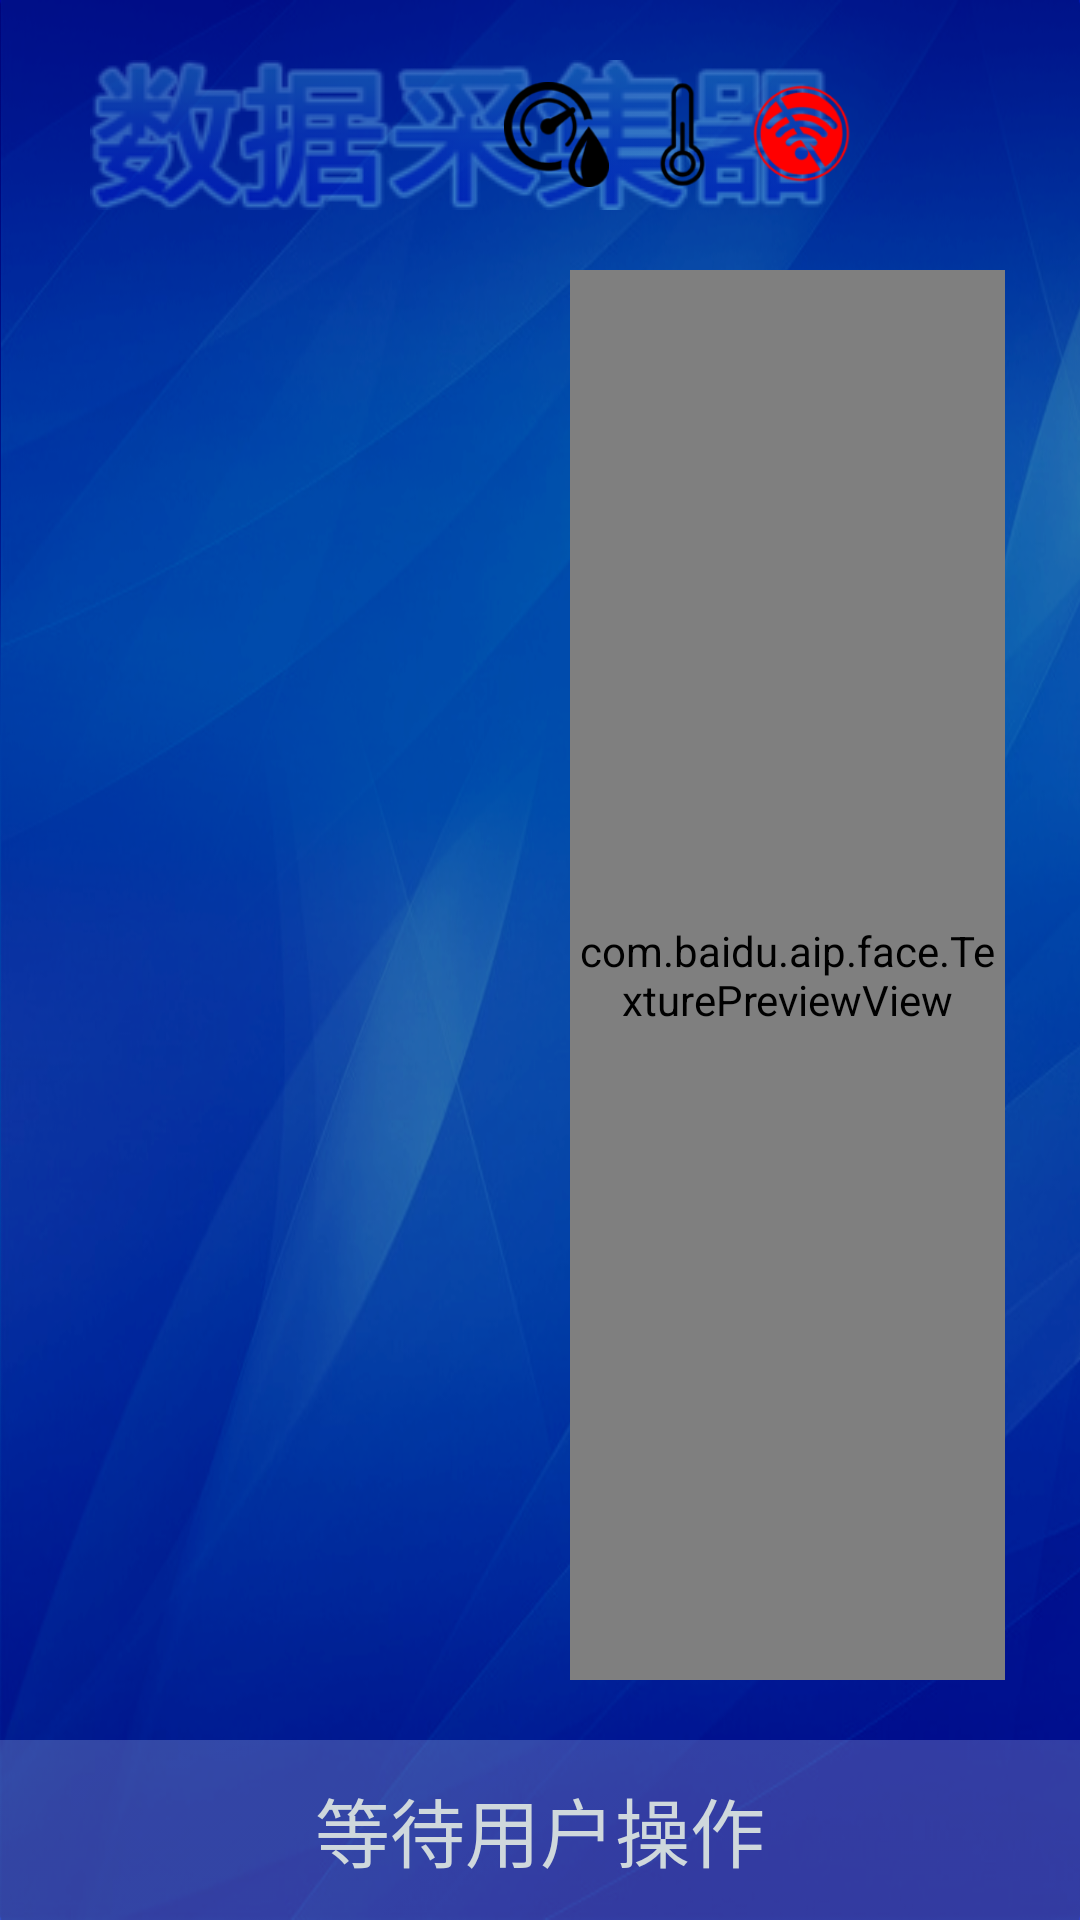

Point at icon controls on the screen. Image size 1080 × 1920, points as [x,y].
humidity: [556,134]
non wifi: [802,134]
temperature: [682,134]
